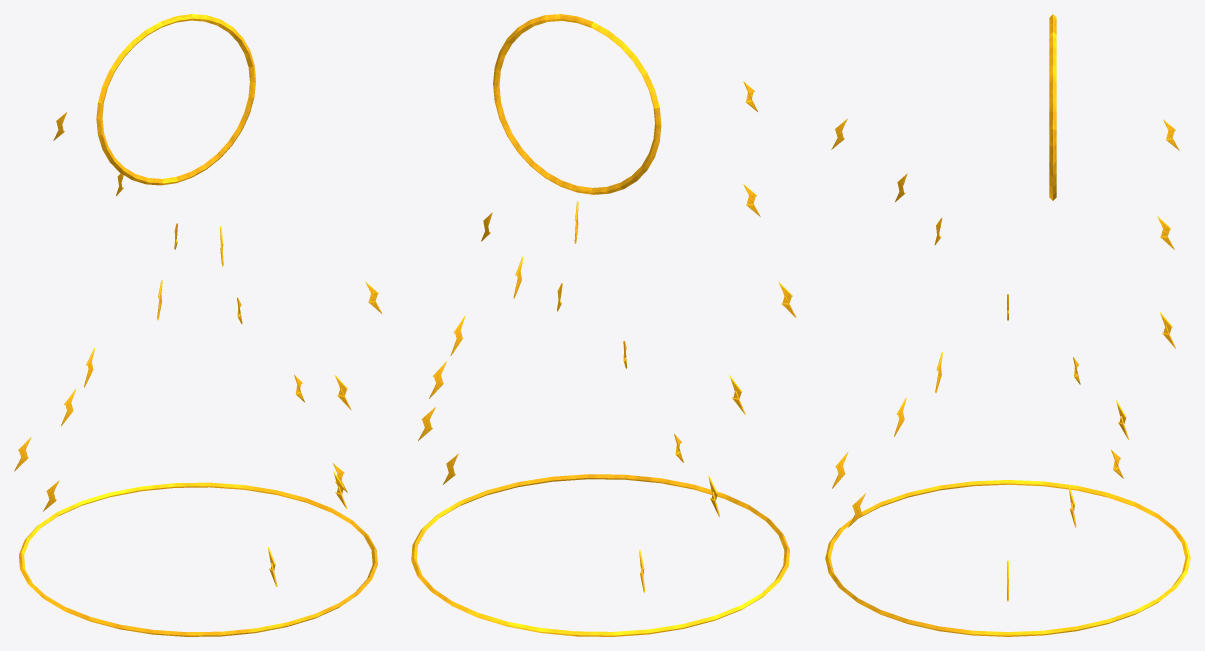
File: aura-thunder.glb
3 renders of one model, left to right at view 1: azimuth 30°, elevation 25°; view 2: azimuth 150°, elevation 25°; view 3: azimuth 270°, elevation 25°, orthographic. The views are drawn at different scales.
Visible parts, largest first — view 1: GroundRing, BackHalo; view 2: GroundRing, BackHalo; view 3: GroundRing, BackHalo.
Boxes of the visible parts, x1,y1,x2,y2 form: GroundRing: [19, 482, 377, 636]; BackHalo: [96, 14, 255, 185]; GroundRing: [411, 474, 789, 636]; BackHalo: [493, 14, 661, 194]; GroundRing: [825, 480, 1190, 636]; BackHalo: [1049, 14, 1056, 200].
Bounding box in the file's own units: 0.812 × 1.32 × 0.812.
Materials: 1 (1 with a texture image).
